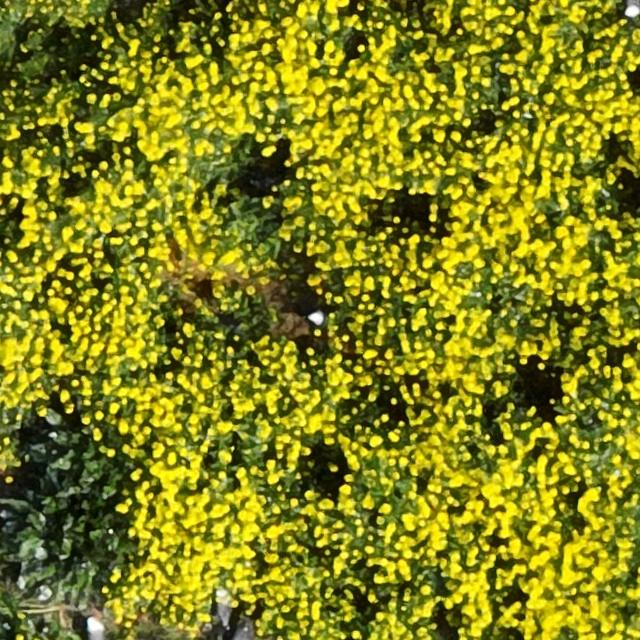umineko: (215, 590, 232, 630), (307, 304, 333, 326), (87, 616, 105, 640), (624, 0, 639, 16)
